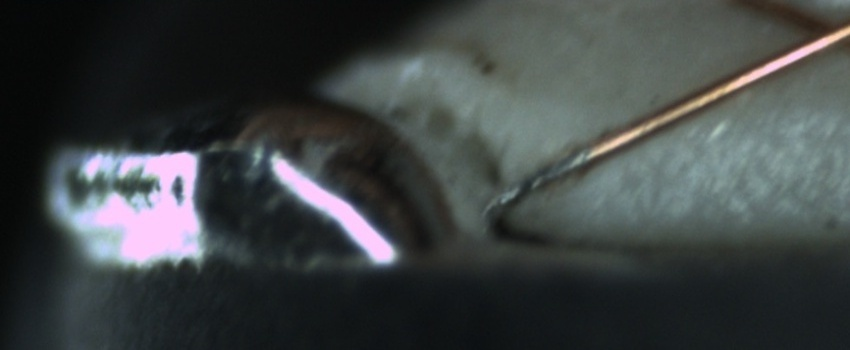CL: (773, 0, 849, 65)
TS: (490, 147, 592, 211)
